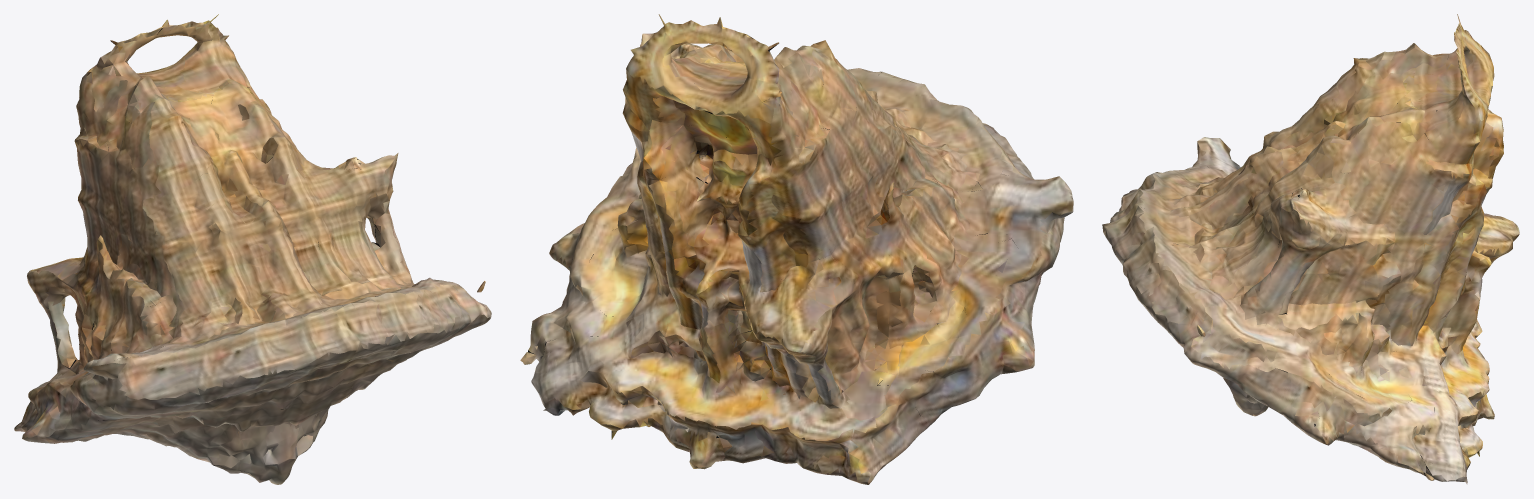
File: aethelian_base.glb
3 views of the same model, side by side, from view 1: azimuth 30°, elevation 25°; view 2: azimuth 150°, elevation 25°; view 3: azimuth 270°, elevation 25° (orthographic). The views are drawn at different scales.
Parts seen in each view (by area): view 1: geometry_0; view 2: geometry_0; view 3: geometry_0.
Part boxes in pixels (box(x1,y1,x2,y2)): geometry_0: box(14, 14, 491, 484); geometry_0: box(520, 14, 1073, 484); geometry_0: box(1102, 14, 1519, 484).
Bounding box in the file's own units: 0.9526 × 0.8276 × 0.8115.
Materials: 1 (1 with a texture image).
